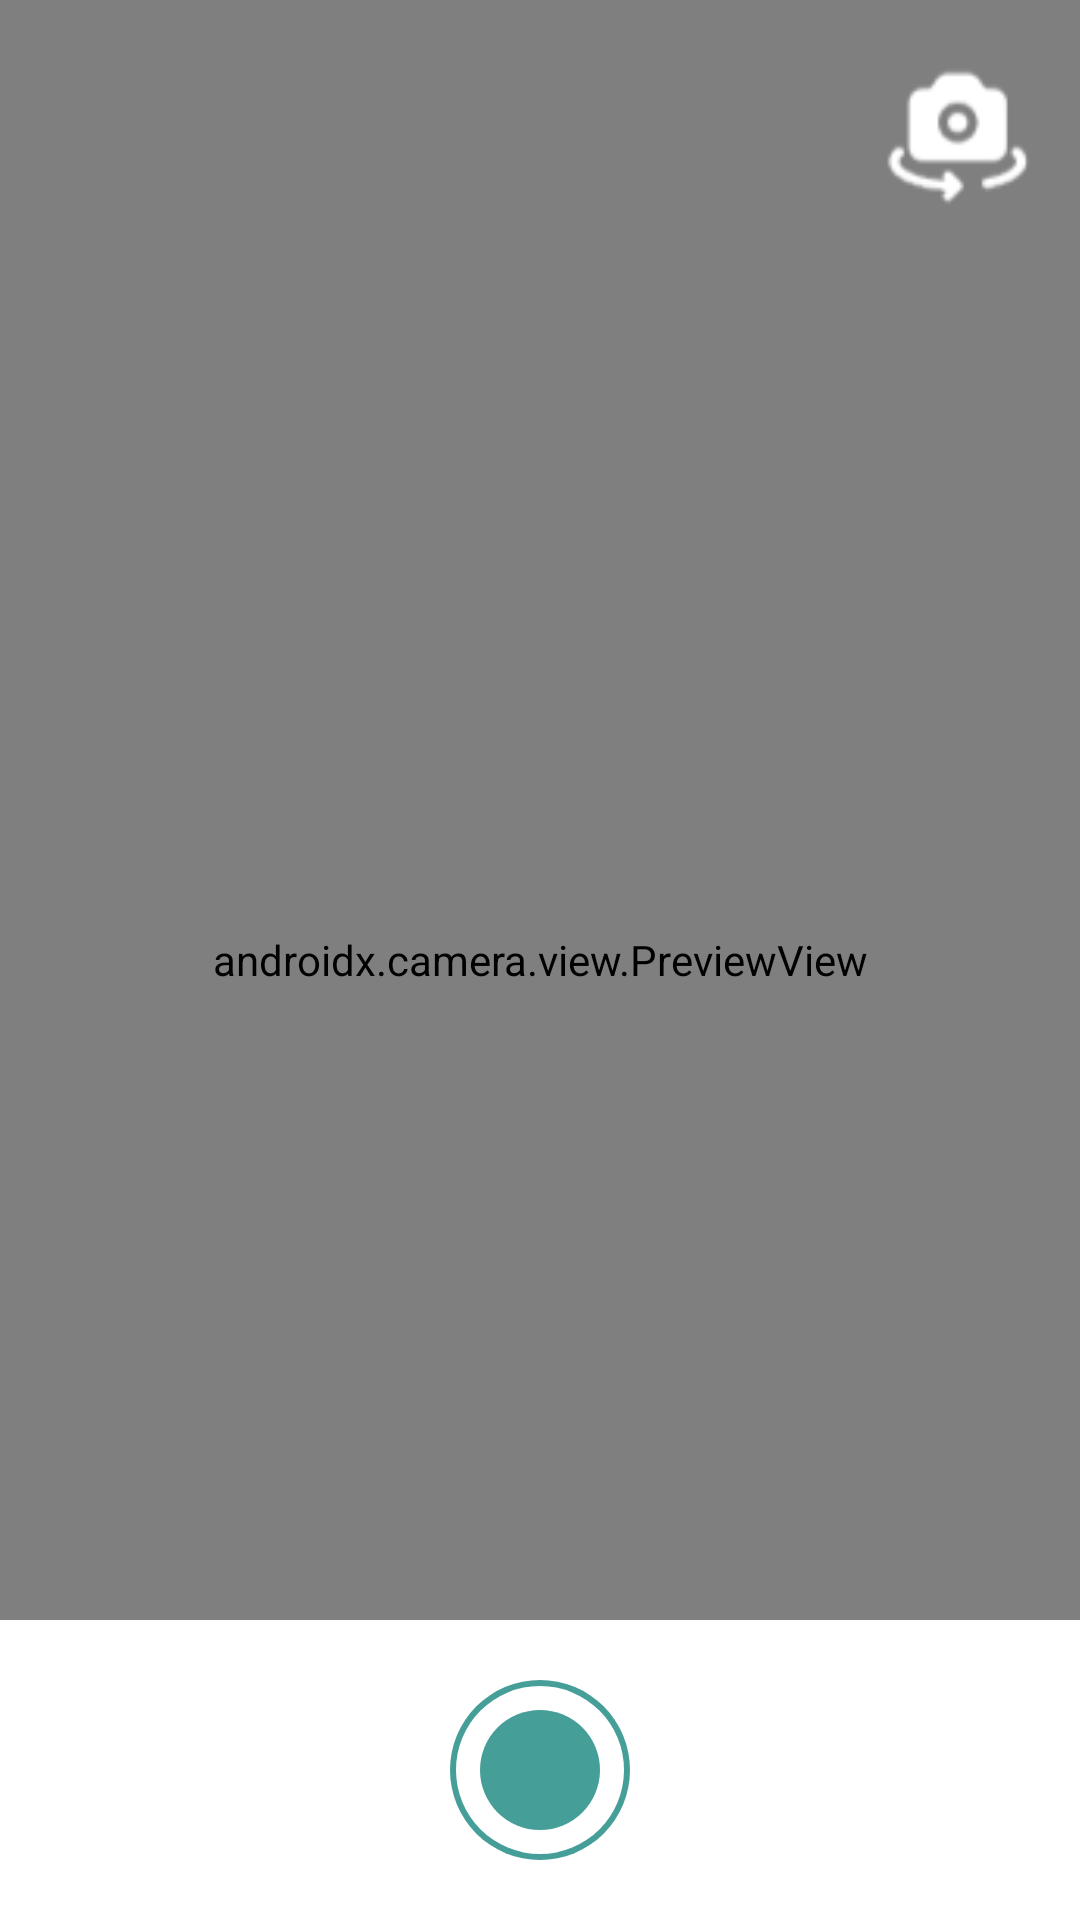

Named icons in this screenshot (1080px×1920px) and their centers, point (x, y):
switch camera: point (957, 137)
